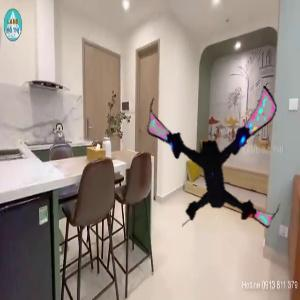drone: (138, 84, 286, 232)
